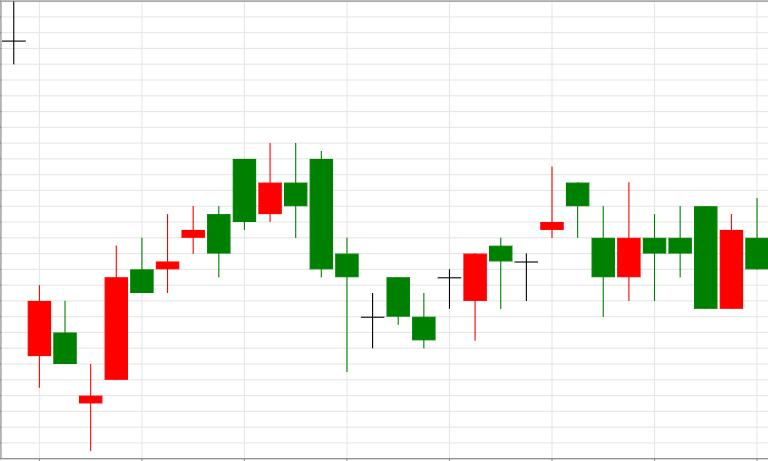morning_star_rise: (0, 1, 128, 452)
shooting_star_fall: (156, 142, 282, 293)
